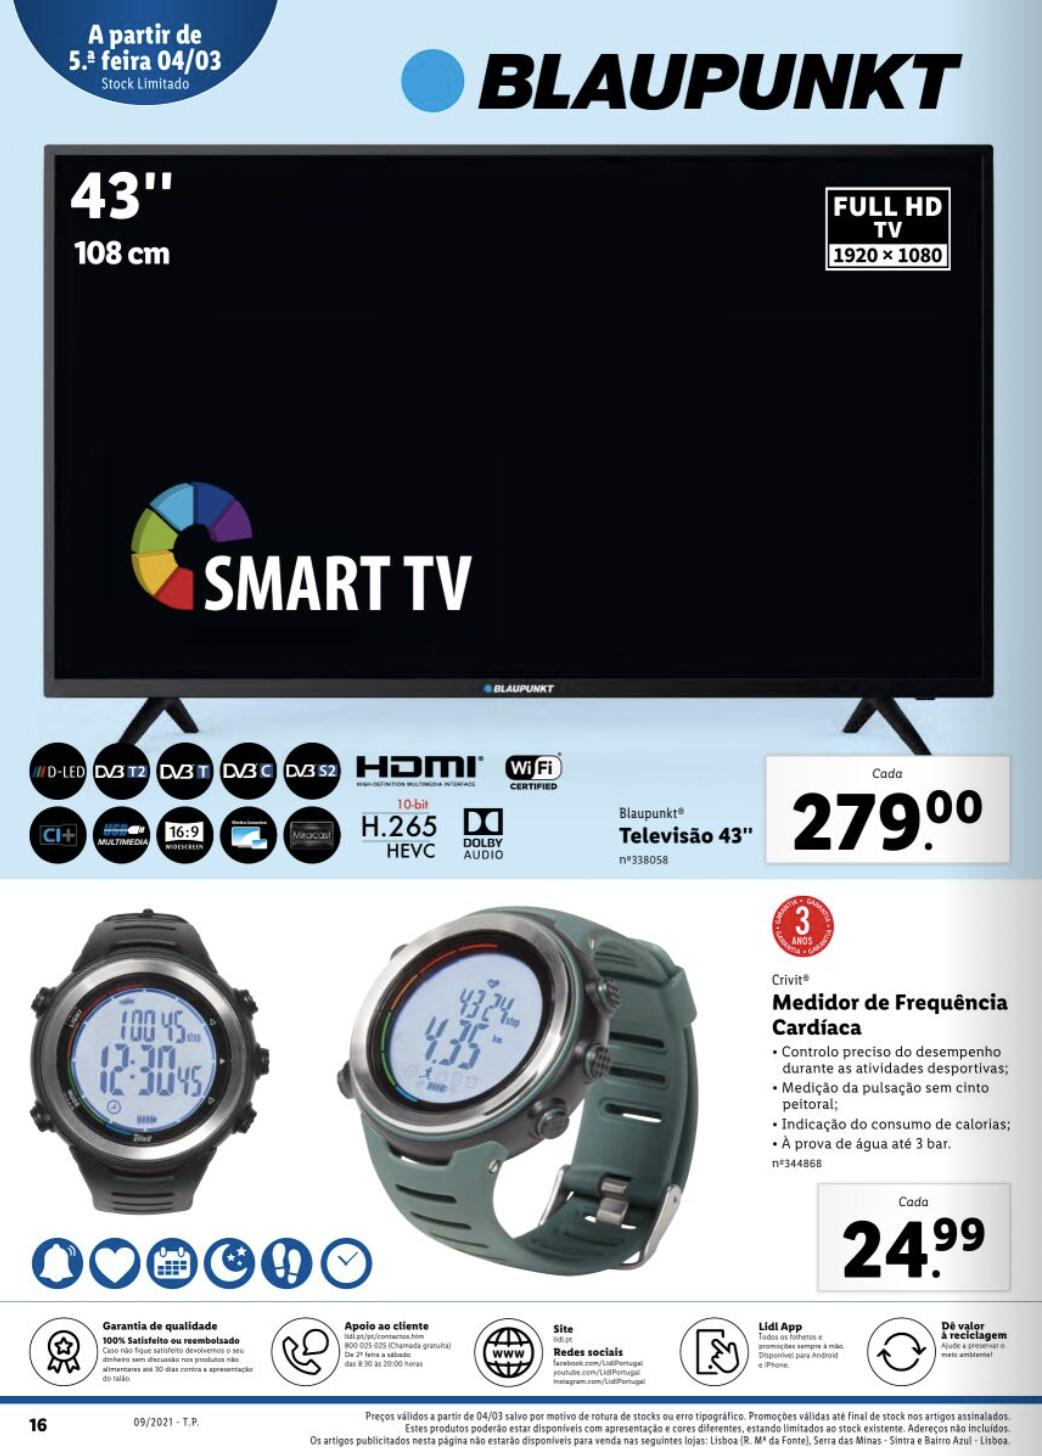name: (771, 985, 1015, 1042), (613, 822, 756, 849)
price: (784, 780, 991, 854), (837, 1207, 991, 1285)
product: (11, 18, 1039, 876), (14, 886, 1030, 1396)
